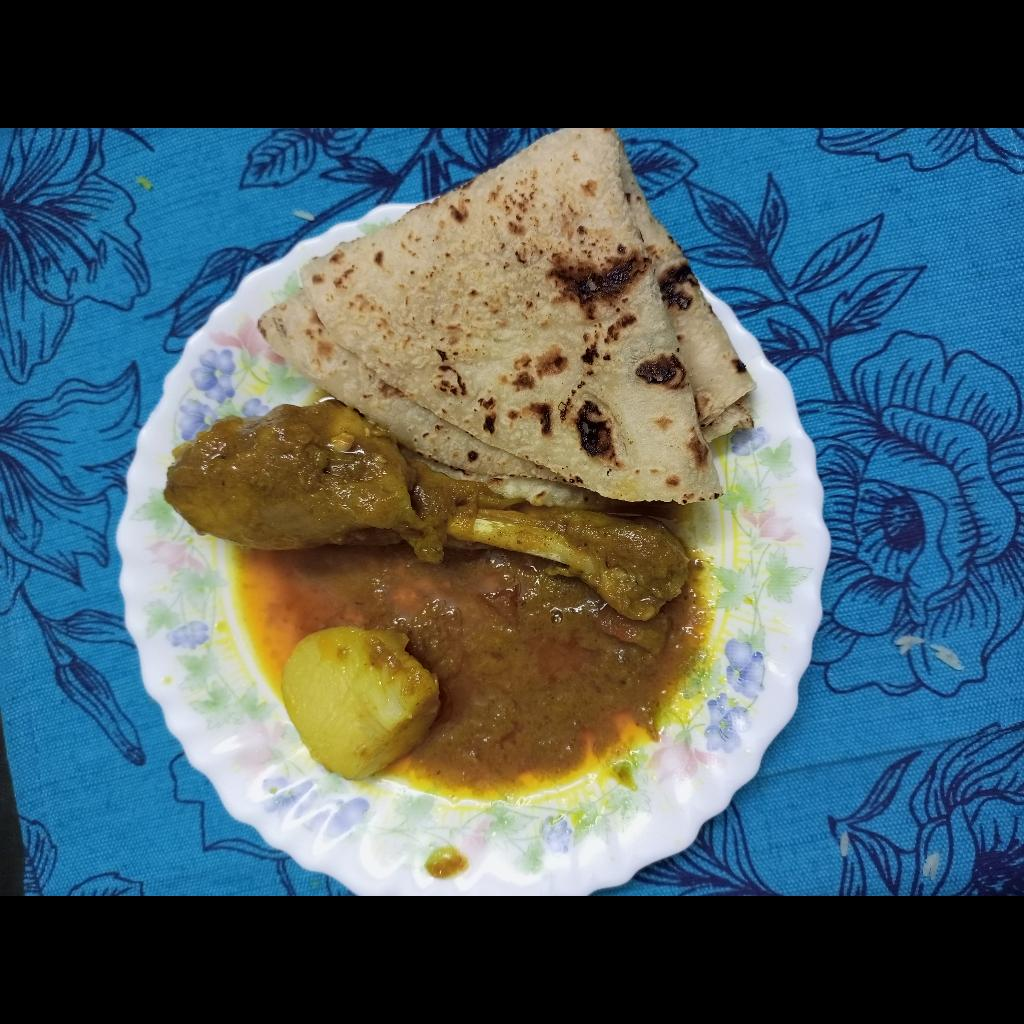chicken: (162, 393, 707, 801)
potato: (279, 626, 438, 785)
ruti: (255, 128, 754, 495)
